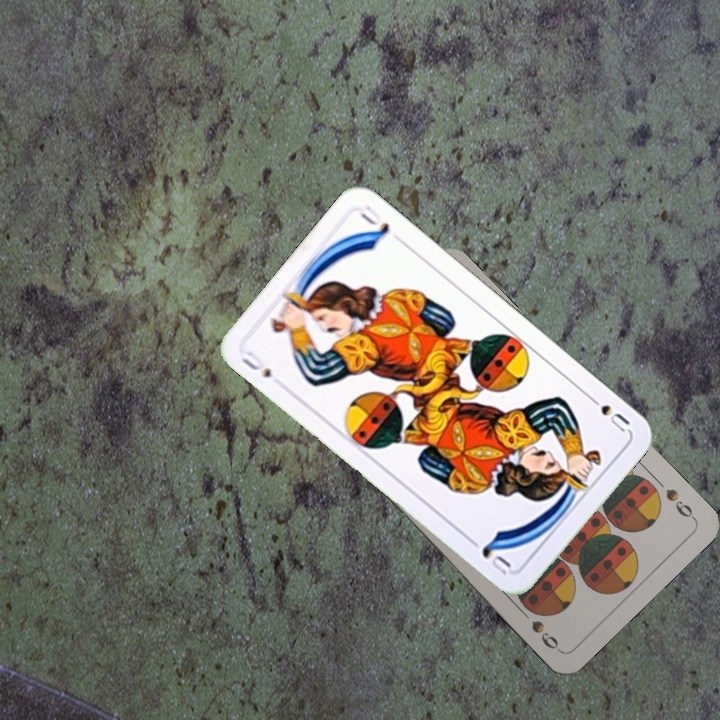S9: (661, 484, 698, 522)
SU: (582, 390, 633, 435), (237, 347, 274, 381)
